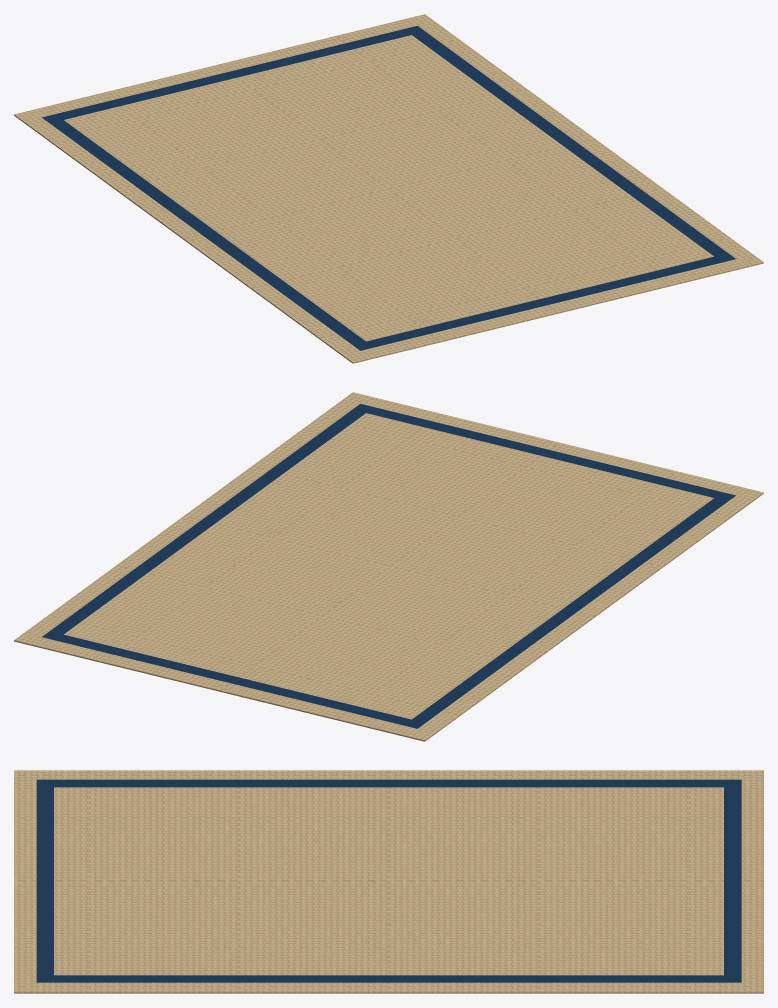
File: rug.glb
3 renders of one model, top to bottom at view 1: azimuth 30°, elevation 25°; view 2: azimuth 150°, elevation 25°; view 3: azimuth 270°, elevation 25°, orthographic. The views are drawn at different scales.
Visible parts, largest first — view 1: resort; view 2: resort; view 3: resort.
Boxes of the visible parts, x1,y1,x2,y2 form: resort: (14,14,763,363); resort: (14,392,763,741); resort: (14,770,763,993).
Bounding box in the file's own units: 4.2 × 0.0135 × 6.
Materials: 2 (1 with a texture image).
